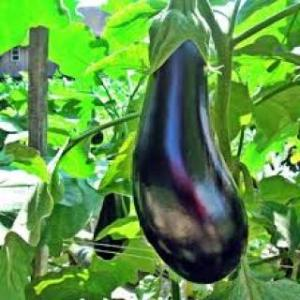eggplant: (136, 12, 250, 282)
